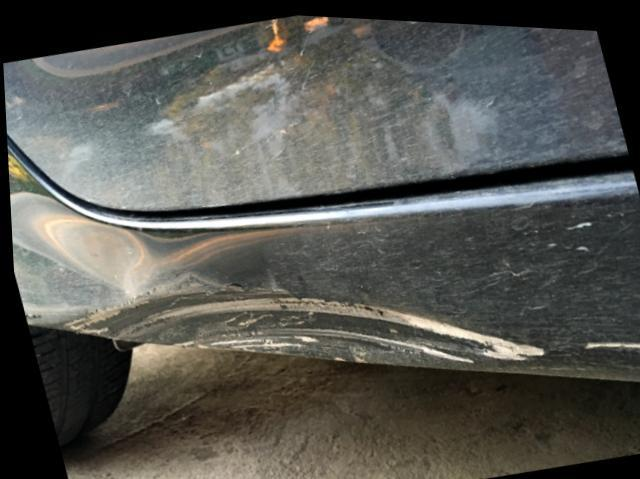dent: (18, 203, 231, 287)
scratch: (64, 282, 559, 369)
